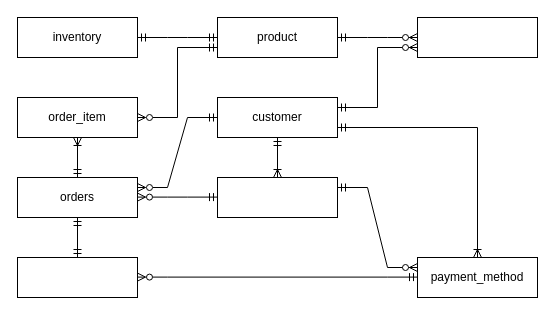
This 555x315 diagram has some shape labels left out. Here are the shapes that lost their labels. From the top down, the centre of each, then its label:
At point (477, 37): "review".
At point (277, 197): "address".
At point (77, 277): "payment_details".
